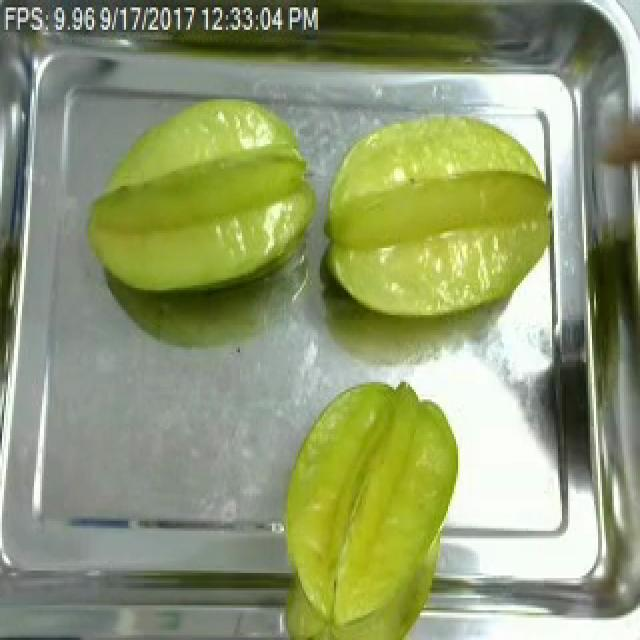fruit: (308, 104, 562, 330), (266, 370, 472, 638), (76, 86, 326, 302), (294, 0, 554, 89)
